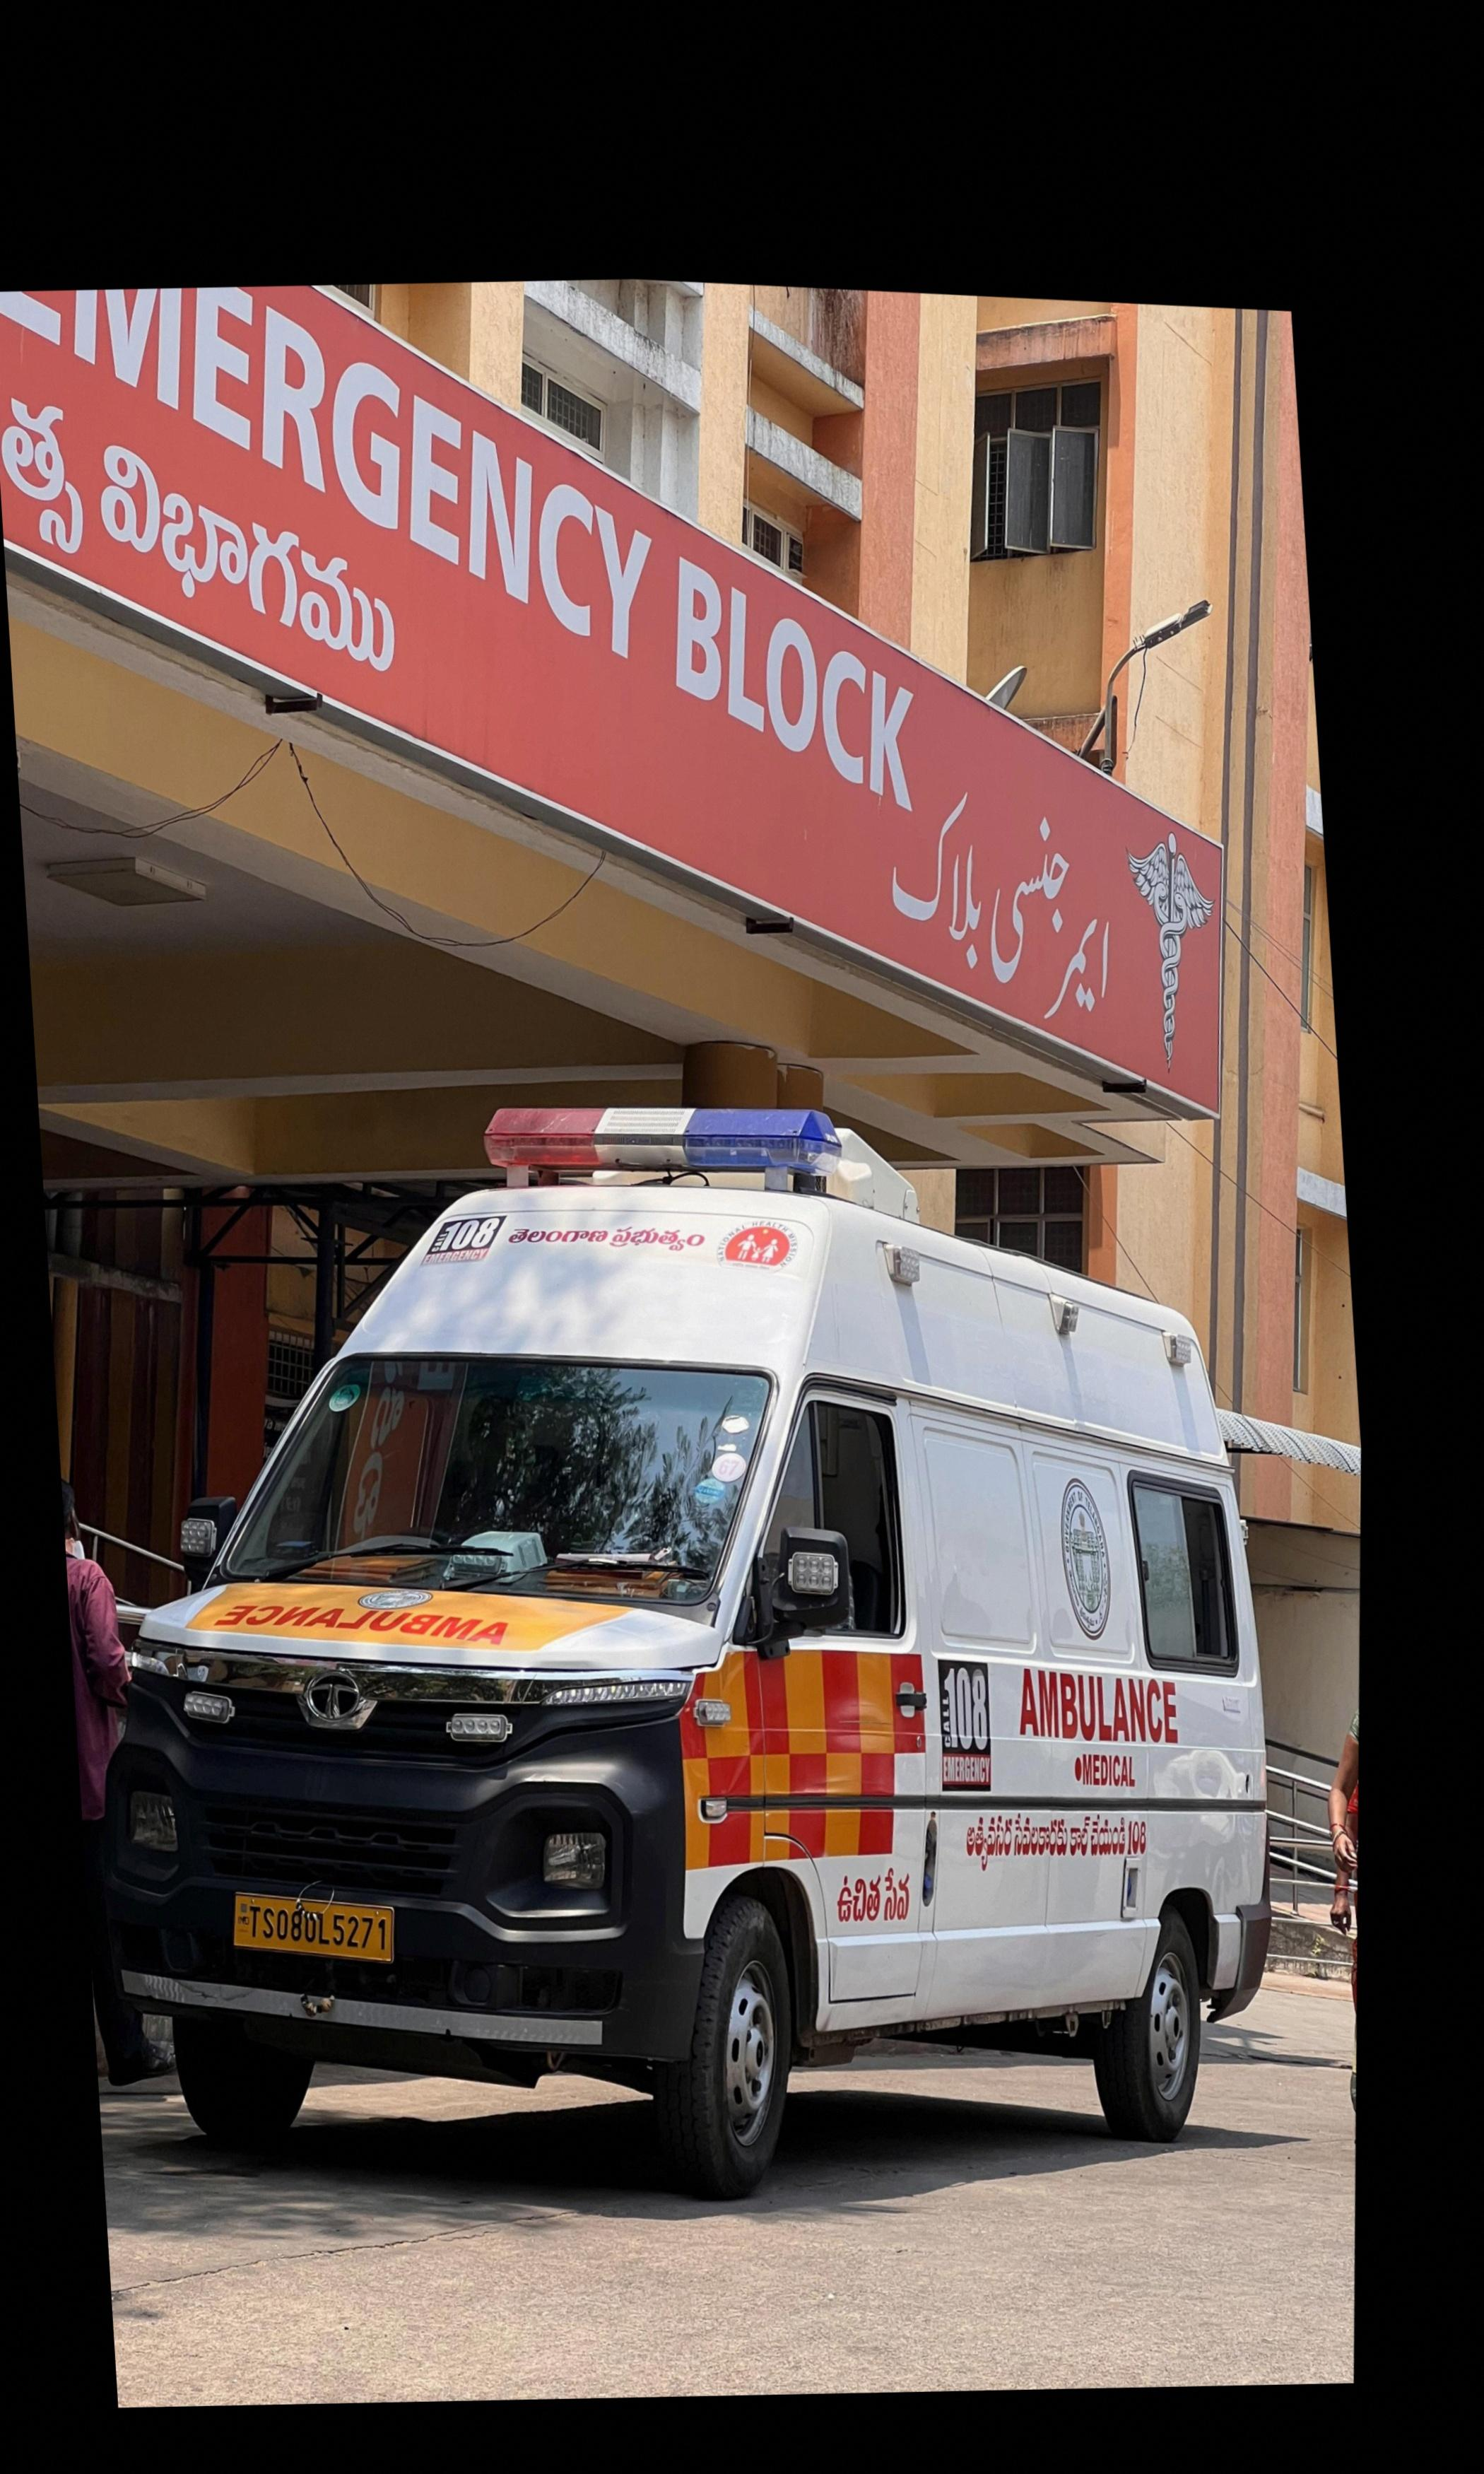ambulance: (104, 1110, 1270, 2191)
